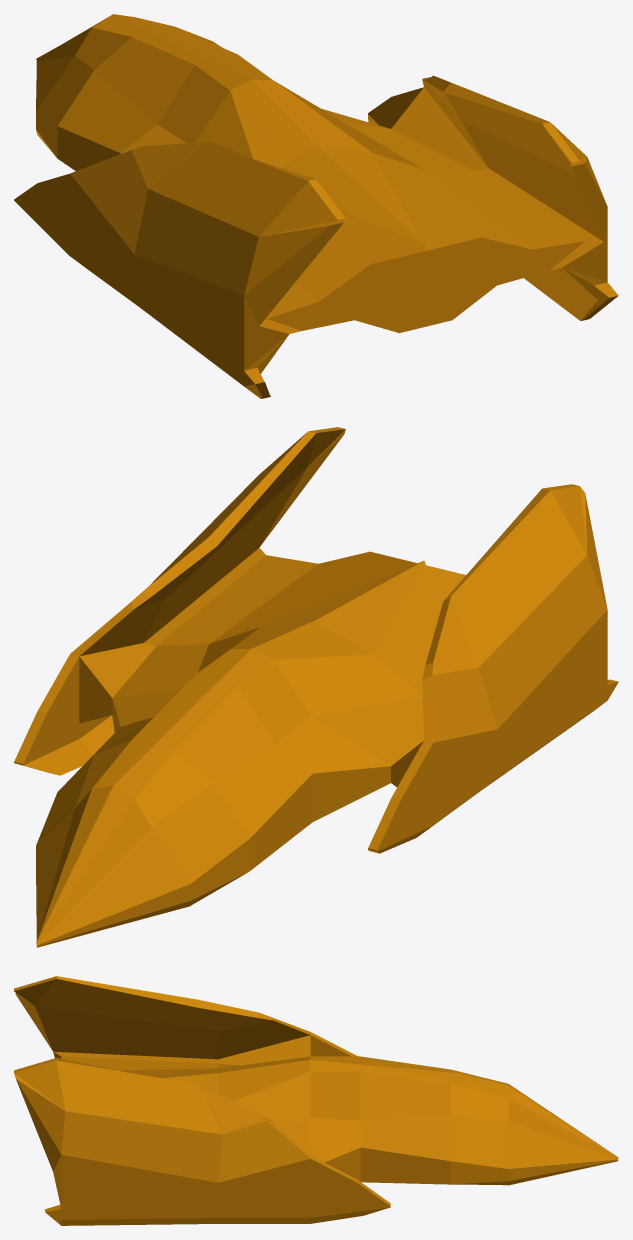
Rendered from vechicle.obj.
3 renders of one model, top to bottom at view 1: azimuth 30°, elevation 25°; view 2: azimuth 150°, elevation 25°; view 3: azimuth 270°, elevation 25°, orthographic. The views are drawn at different scales.
Visible parts, largest first — view 1: Cube; view 2: Cube; view 3: Cube.
Boxes of the visible parts, x1=… form: Cube: x1=14, y1=14, x2=618, y2=398; Cube: x1=14, y1=427, x2=618, y2=947; Cube: x1=14, y1=976, x2=618, y2=1225.
Bounding box in the file's own units: 3.34 × 1.92 × 6.74.
